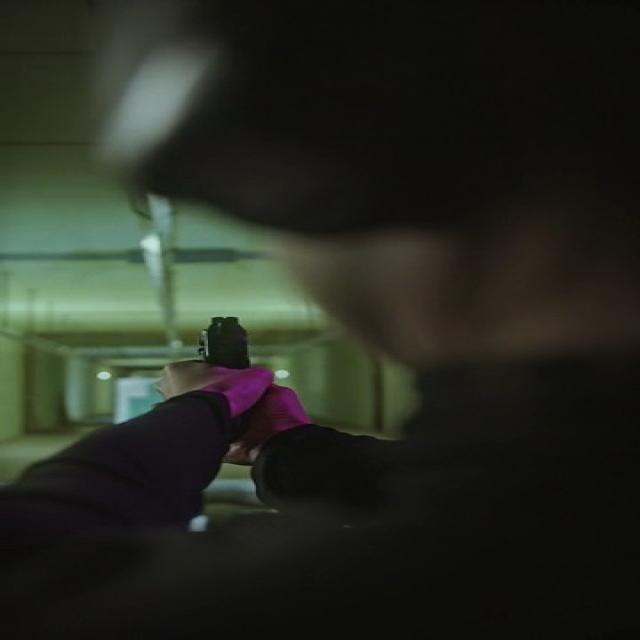Gun_Holder: (148, 303, 316, 477)
